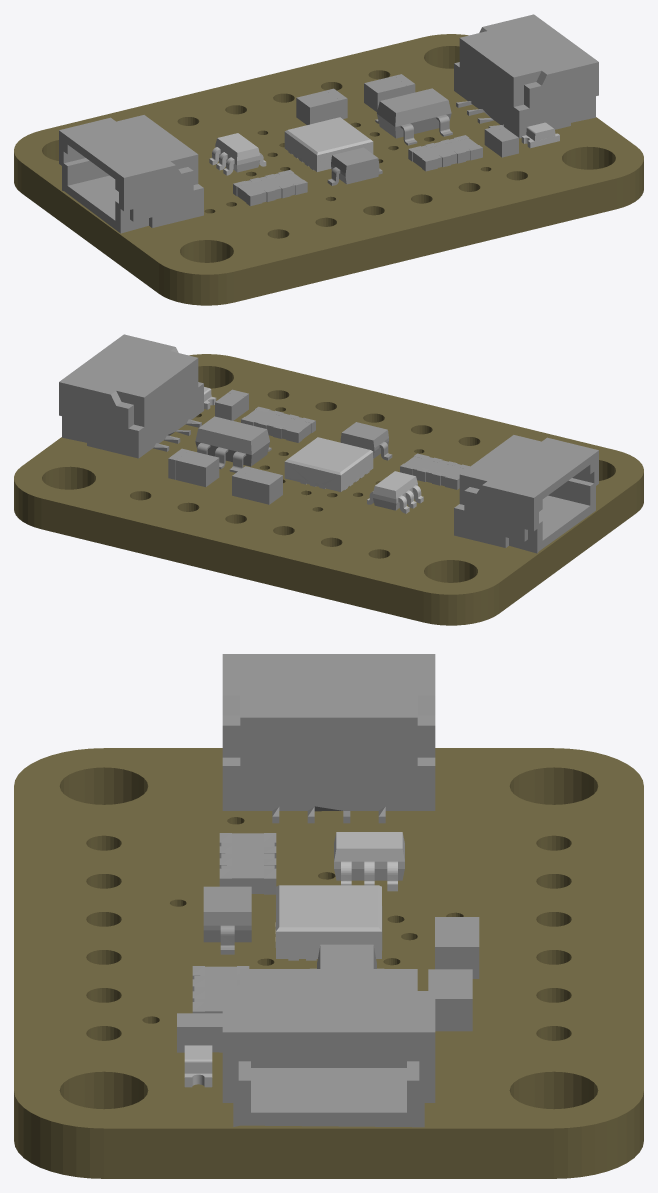
Rendered from adafruit-2809-lis3dh.glb.
The picture shows the model from 3 angles, top to bottom: view 1: azimuth 30°, elevation 25°; view 2: azimuth 150°, elevation 25°; view 3: azimuth 270°, elevation 25°; orthographic projection. The views are drawn at different scales.
Parts seen in each view (by area): view 1: colour 1, colour 2, colour 4, colour 3; view 2: colour 1, colour 2, colour 4, colour 3; view 3: colour 1, colour 2, colour 4, colour 3.
Part boxes in pixels (box(x1,y1,x2,y2)): colour 1: box(14, 34, 643, 305); colour 2: box(59, 14, 598, 233); colour 4: box(284, 117, 559, 171); colour 3: box(209, 133, 266, 175); colour 1: box(14, 354, 643, 625); colour 2: box(59, 334, 598, 553); colour 4: box(204, 387, 373, 491); colour 3: box(367, 471, 423, 513); colour 1: box(14, 748, 643, 1178); colour 2: box(177, 654, 479, 1127); colour 4: box(184, 885, 382, 1087); colour 3: box(334, 832, 404, 891).
Size of the model in its own units: 0.0254 by 0.00453 by 0.0178.
